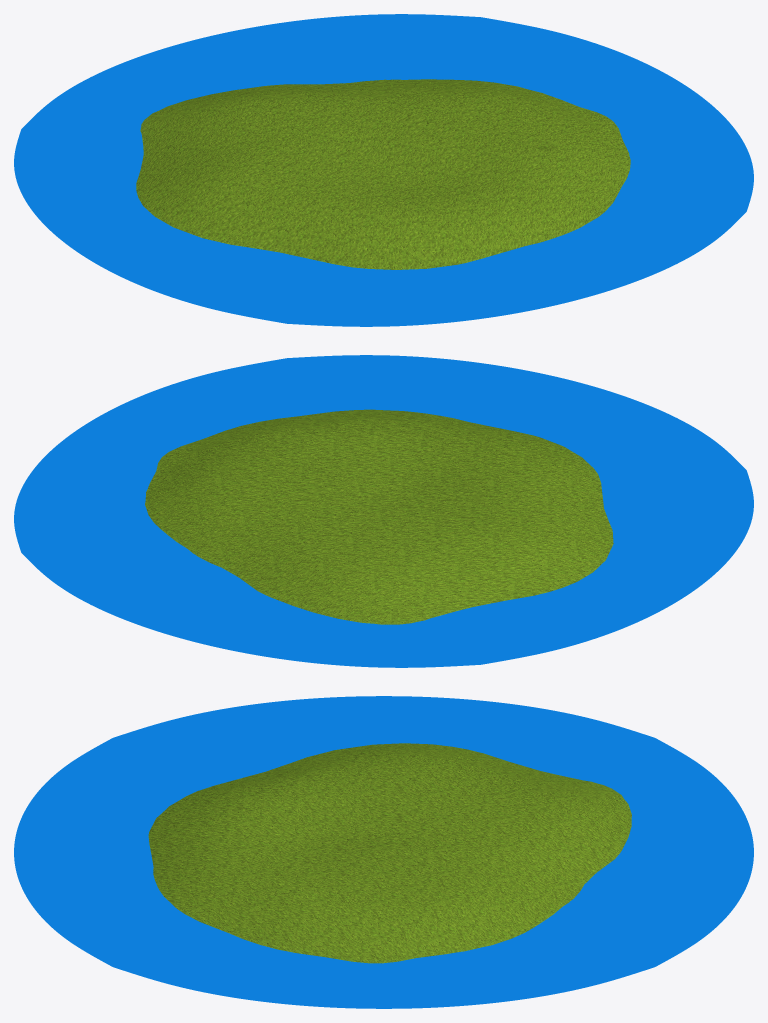
Rendered from Terrain.fbx.
3 views of the same model, one above another, from view 1: azimuth 30°, elevation 25°; view 2: azimuth 150°, elevation 25°; view 3: azimuth 270°, elevation 25° (orthographic). The views are drawn at different scales.
Visible parts, largest first — view 1: Plane.001, Plane; view 2: Plane.001, Plane; view 3: Plane.001, Plane.
Boxes of the visible parts, left/top/right/bottom form: Plane.001: left=14, top=14, right=753, bottom=326; Plane: left=136, top=79, right=630, bottom=269; Plane.001: left=14, top=355, right=753, bottom=667; Plane: left=145, top=409, right=613, bottom=624; Plane.001: left=14, top=696, right=753, bottom=1008; Plane: left=148, top=743, right=631, bottom=963.
Size of the model in its own units: 11454 by 646 by 11454.
